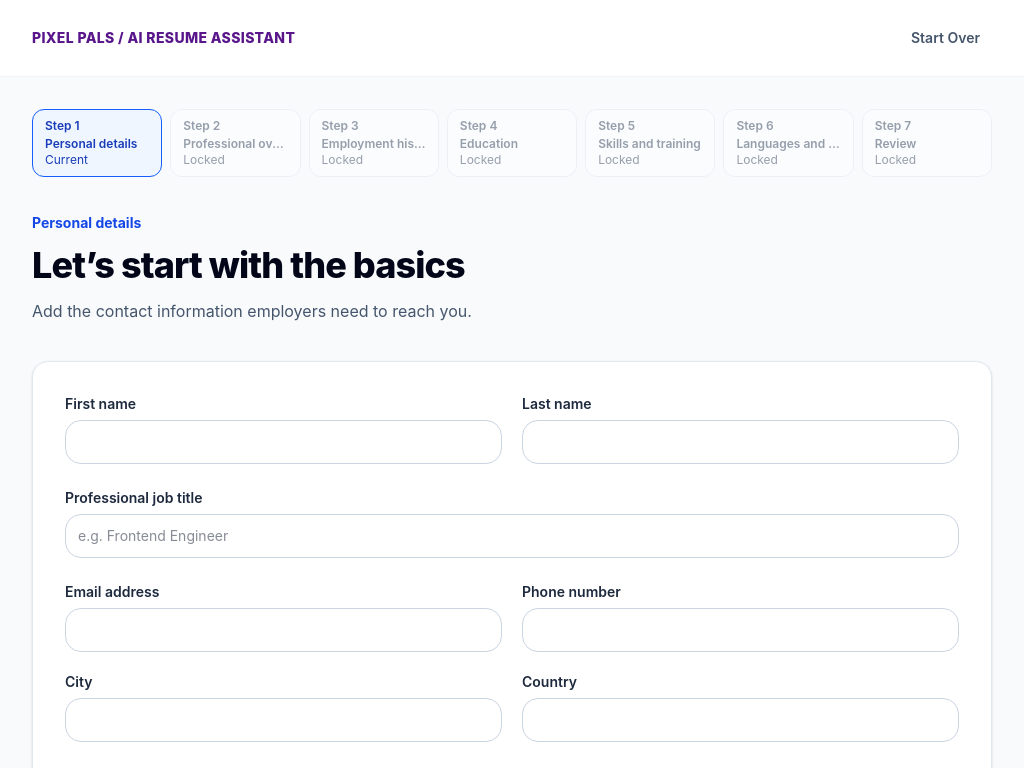
start over and unsaved progress › closes the confirmation dialog with Escape
Click the button "Start Over" at [946, 38], box [899,16,992,60]
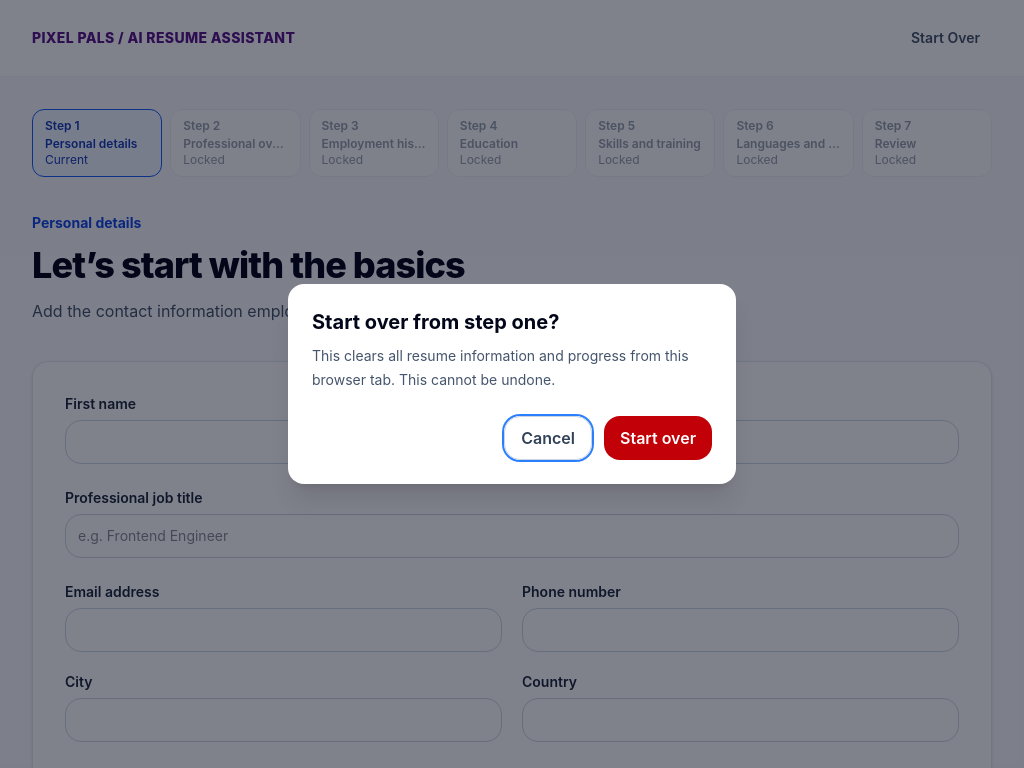
Press Escape in the dialog, box [288,284,736,484]
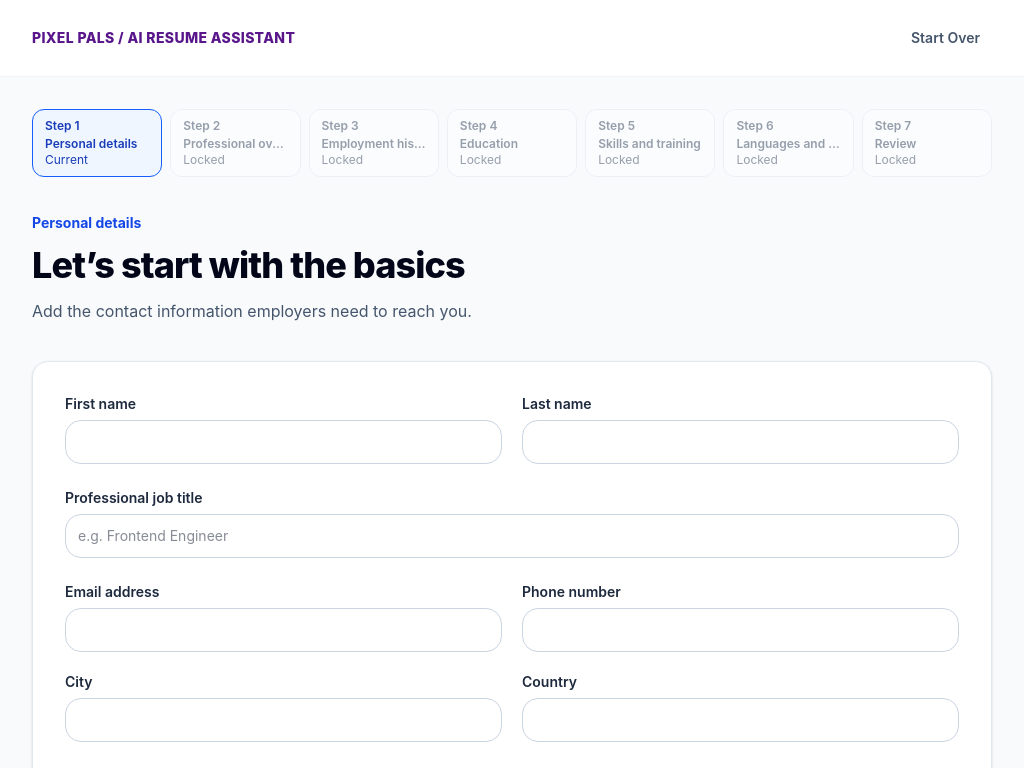
Result: the dialog is gone
